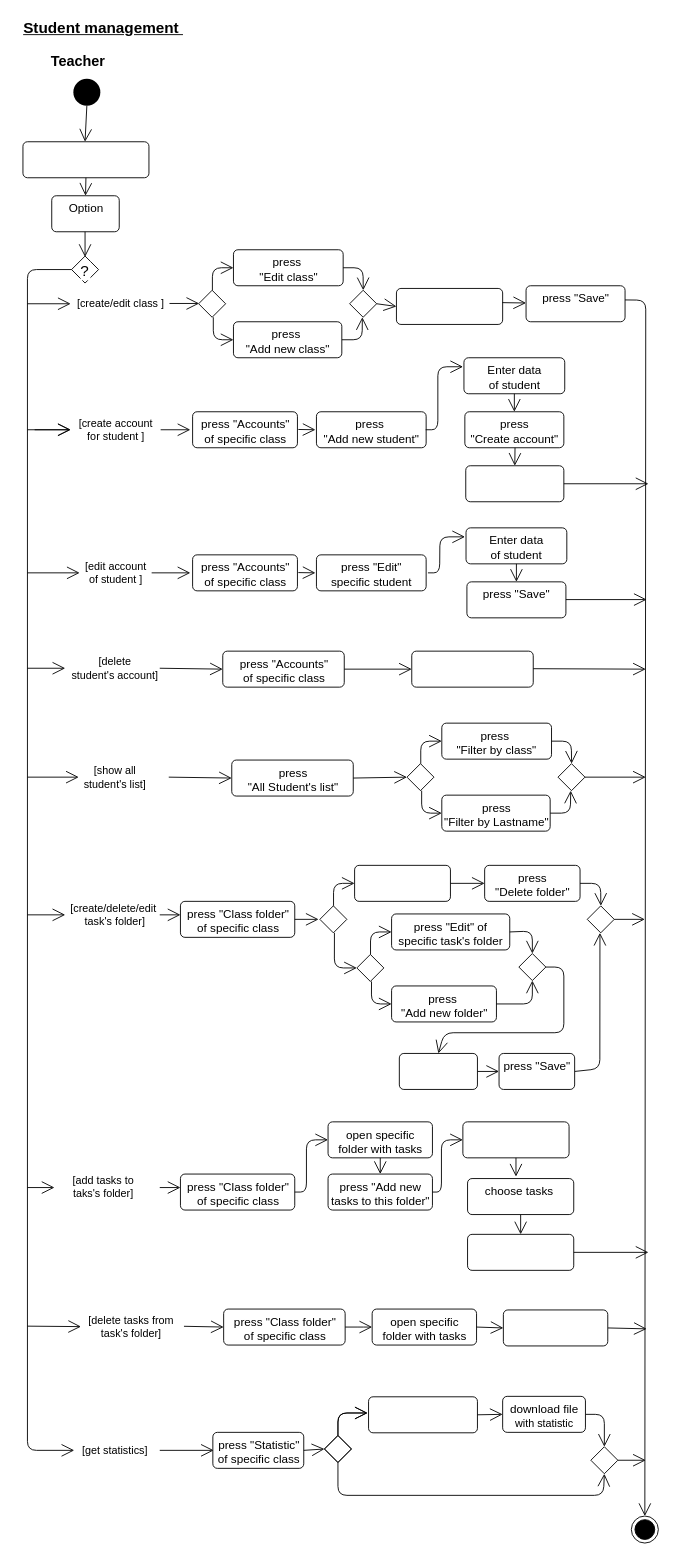
Some shapes in this 677 by 1559 pixel diagram are drawn without their labels. Here are the shapes that lost their labels. From the top down, the centre of each, then its label:
the point at 85,159: press btn "My Classes"
the point at 449,306: Enter data of class
the point at 514,483: Send email to student
the point at 472,668: press "Delete" specific student
the point at 402,882: press by specific folder
the point at 437,1071: enter folder name
the point at 515,1139: apply filter for search tasks
the point at 520,1251: press "Add selected tasks"
the point at 555,1327: press "Delete" of specific task
the point at 422,1414: Press "Download statistic"
